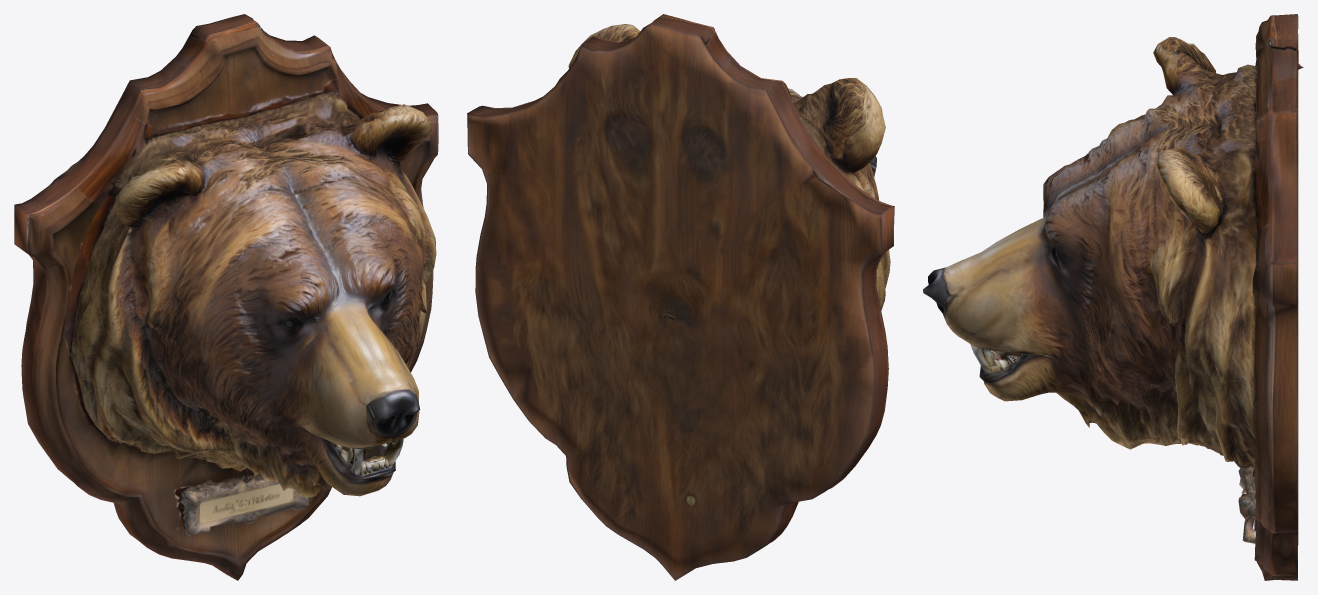
Rendered from bear_trophy_head.glb.
3 renders of one model, left to right at view 1: azimuth 30°, elevation 25°; view 2: azimuth 150°, elevation 25°; view 3: azimuth 270°, elevation 25°, orthographic.
Parts seen in each view (by area): view 1: Object_4; view 2: Object_4; view 3: Object_4.
Boxes of the visible parts, <box> form: Object_4: <box>14,14,438,580</box>; Object_4: <box>467,14,894,580</box>; Object_4: <box>923,14,1303,580</box>.
Size of the model in its own units: 1.58 by 2 by 1.25.
1 material, 1 textured.
